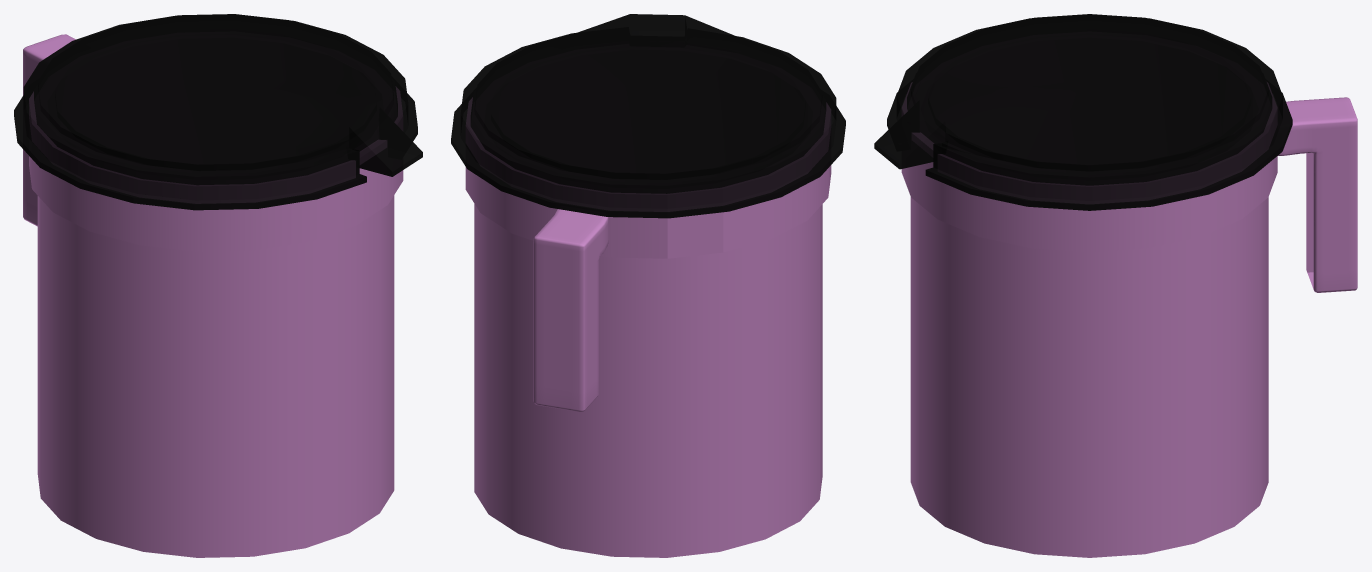
Rendered from Hospital-watercup.fbx.
3 renders of one model, left to right at view 1: azimuth 30°, elevation 25°; view 2: azimuth 150°, elevation 25°; view 3: azimuth 270°, elevation 25°, orthographic. The views are drawn at different scales.
Visible parts, largest first — view 1: pCylinder10, pCylinder12, Handle2; view 2: pCylinder10, pCylinder12, Handle2; view 3: pCylinder10, pCylinder12, Handle2.
Boxes of the visible parts, <box> form: pCylinder10: <box>29,87,403,557</box>; pCylinder12: <box>14,14,422,210</box>; Handle2: <box>23,34,75,226</box>; pCylinder10: <box>465,98,831,557</box>; pCylinder12: <box>451,14,845,218</box>; Handle2: <box>533,209,608,411</box>; pCylinder10: <box>901,83,1277,557</box>; pCylinder12: <box>874,14,1292,210</box>; Handle2: <box>1278,97,1357,292</box>.
Size of the model in its own units: 2.27 by 2.5 by 2.7.
